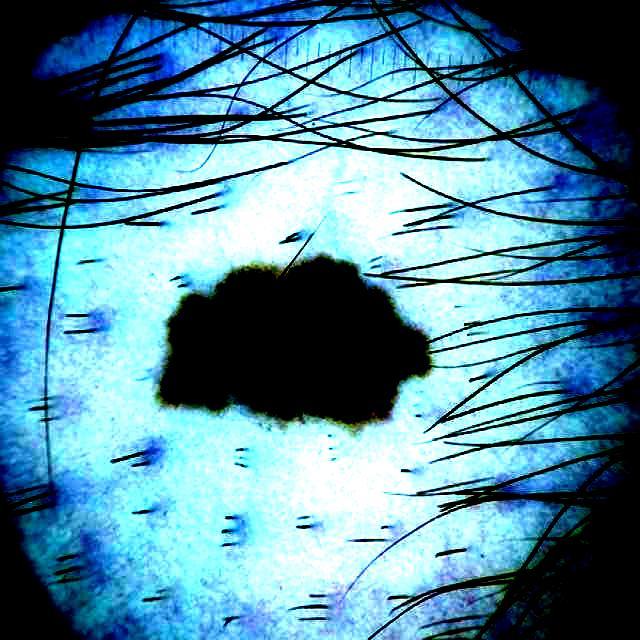BCC: (161, 256, 430, 422)
